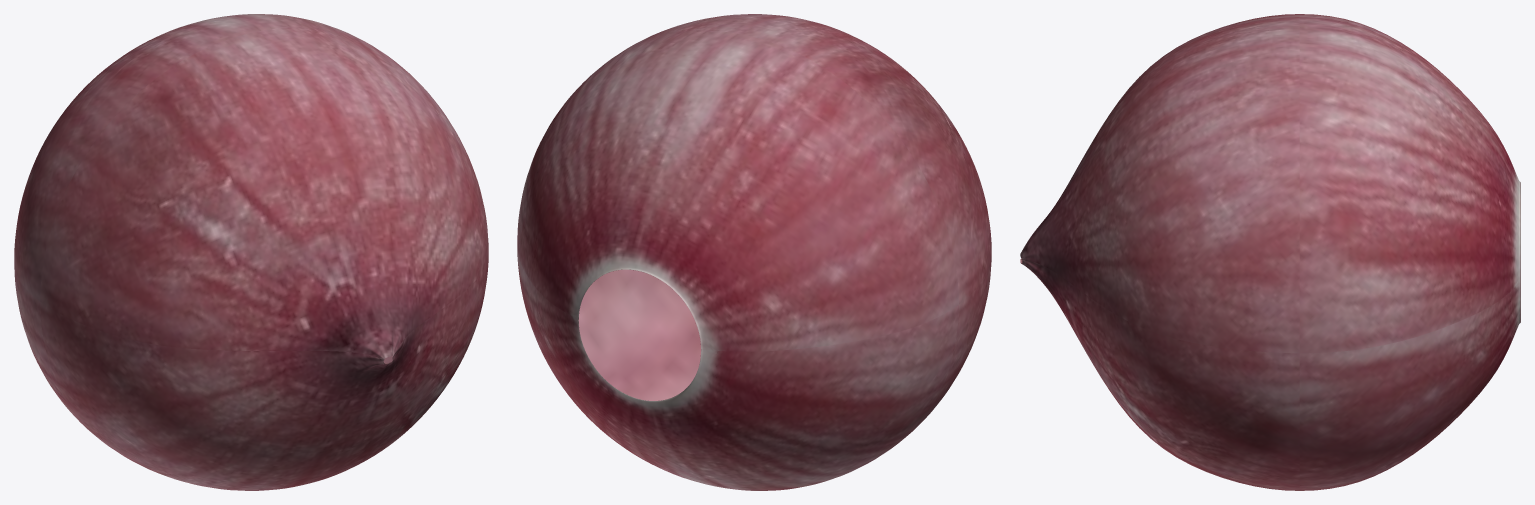
The model's file is RoundRedOnionPeel001.obj.
3 views of the same model, side by side, from view 1: azimuth 30°, elevation 25°; view 2: azimuth 150°, elevation 25°; view 3: azimuth 270°, elevation 25° (orthographic).
Parts seen in each view (by area): view 1: RoundRedOnionPeel001; view 2: RoundRedOnionPeel001; view 3: RoundRedOnionPeel001.
Part boxes in pixels (x1,y1,x2,y2): RoundRedOnionPeel001: (14, 14, 488, 490); RoundRedOnionPeel001: (517, 14, 991, 490); RoundRedOnionPeel001: (1020, 14, 1520, 490).
Size of the model in its own units: 0.092 by 0.092 by 0.0965.
Materials: 1 (1 with a texture image).
